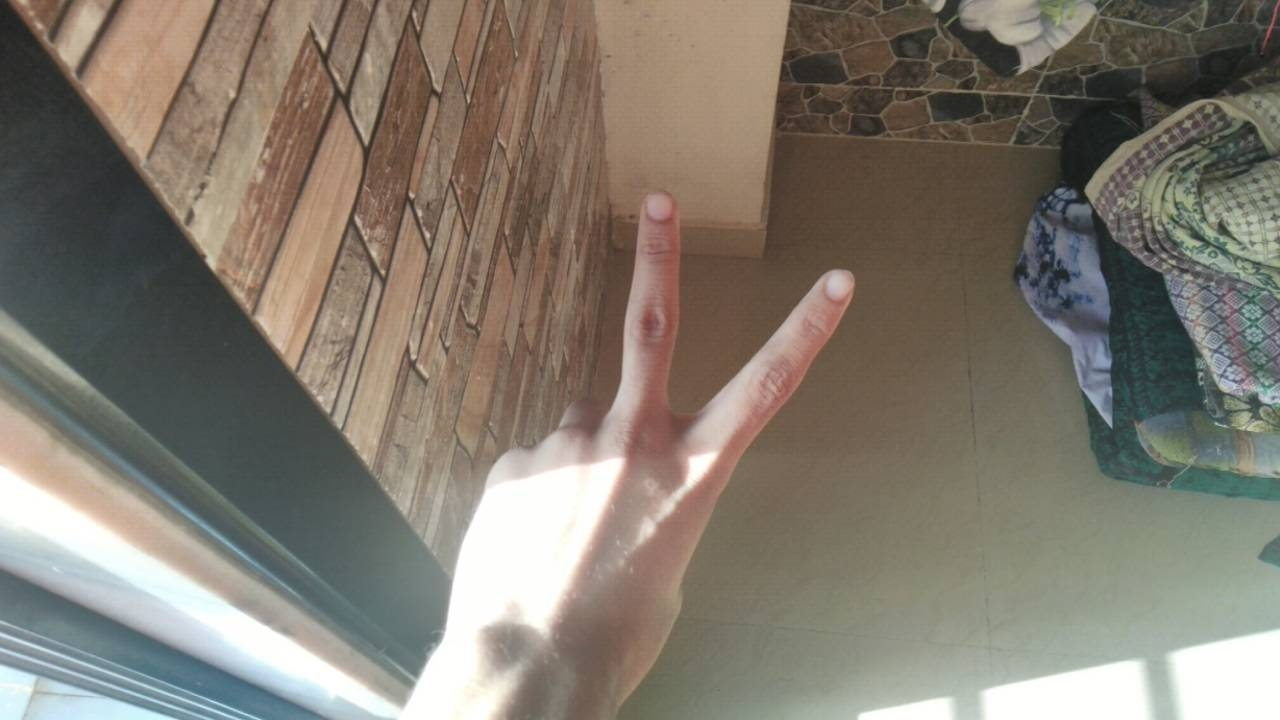fingertip: (810, 262, 864, 312), (634, 182, 682, 230)
